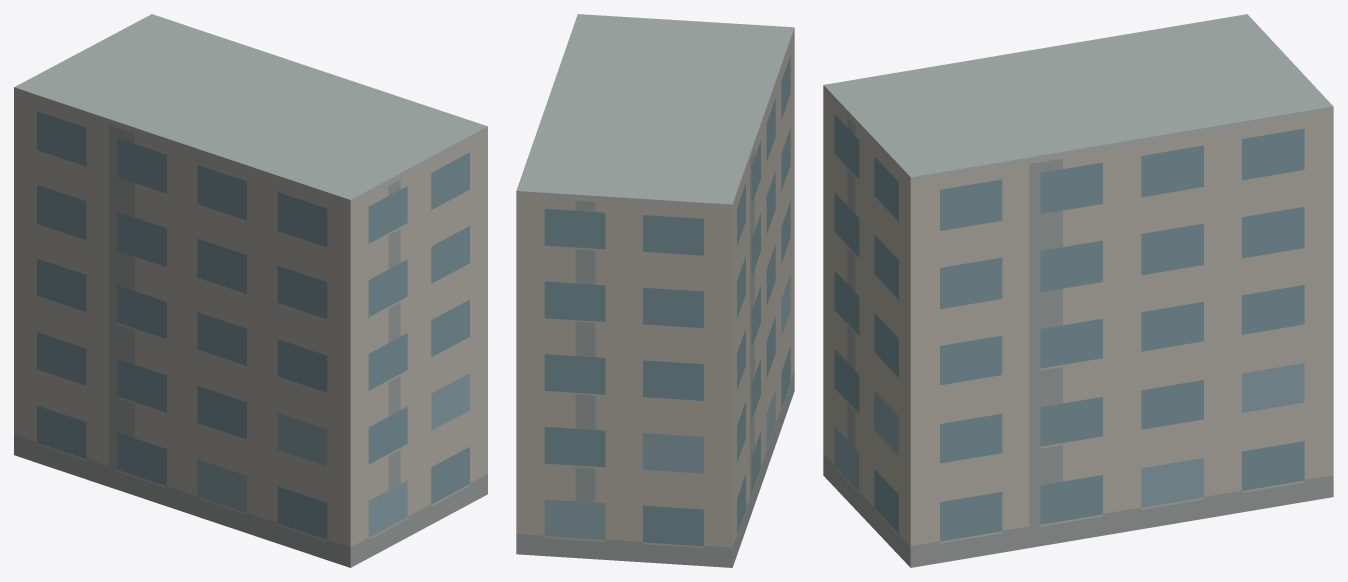
The model's file is survey-upis-32889633.glb.
3 views of the same model, side by side, from view 1: azimuth 30°, elevation 25°; view 2: azimuth 150°, elevation 25°; view 3: azimuth 270°, elevation 25° (orthographic). The views are drawn at different scales.
Parts seen in each view (by area): view 1: survey-upis-32889633.tmp; view 2: survey-upis-32889633.tmp; view 3: survey-upis-32889633.tmp.
Part boxes in pixels (x1,y1,x2,y2): survey-upis-32889633.tmp: (14, 14, 487, 567); survey-upis-32889633.tmp: (516, 14, 794, 567); survey-upis-32889633.tmp: (823, 14, 1333, 567).
Size of the model in its own units: 12.74 by 14.2 by 16.82.
